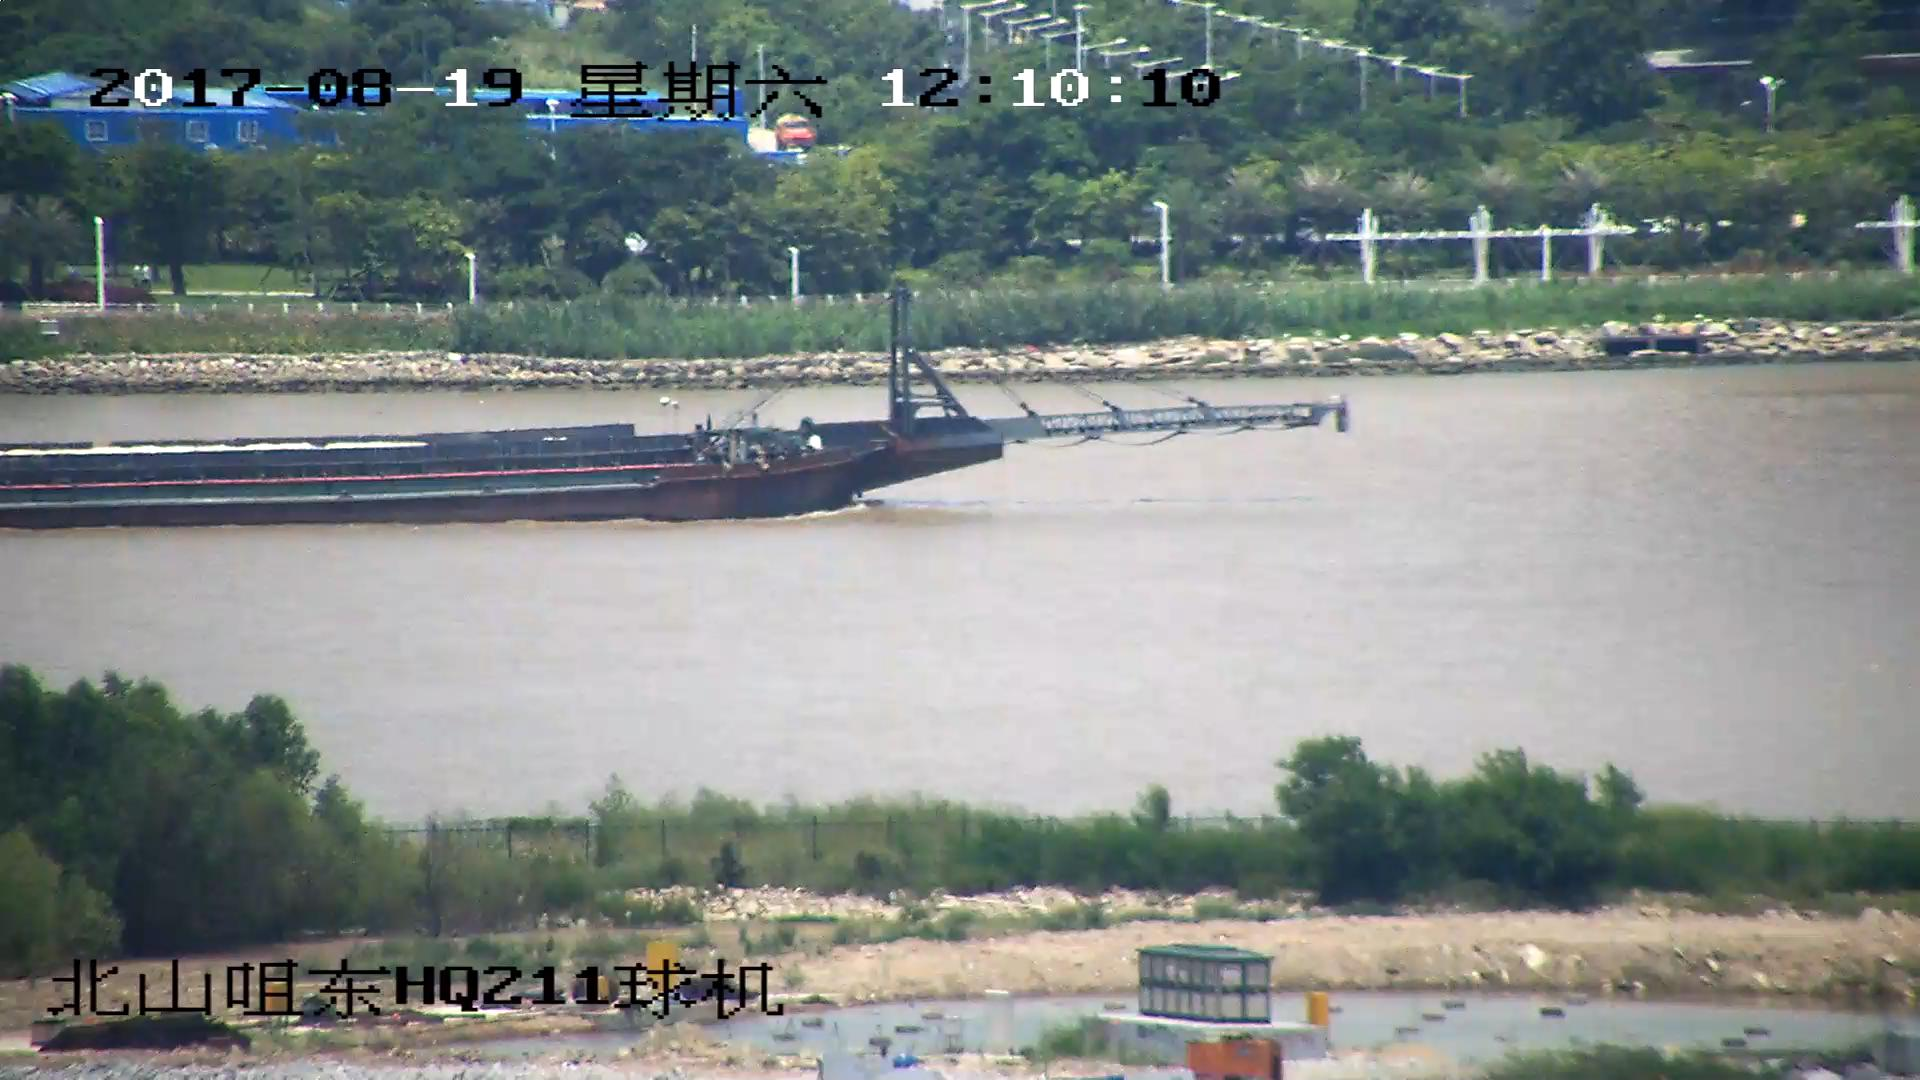bulk cargo carrier: (1, 285, 1340, 532)
